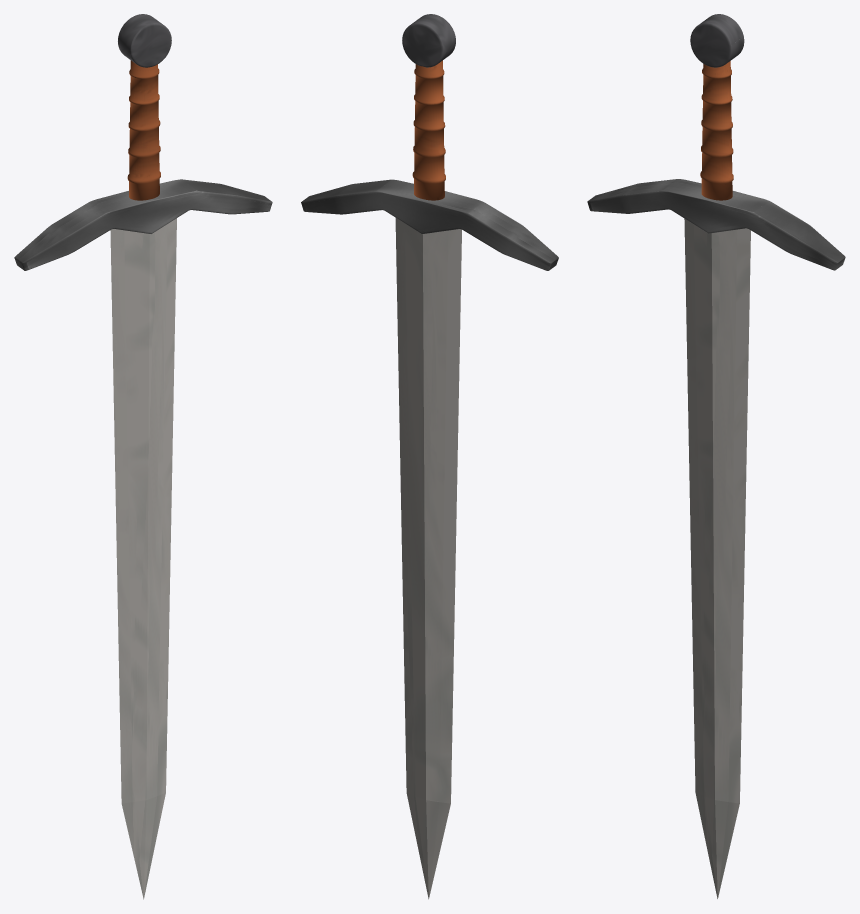
The model's file is Sword1.fbx.
The picture shows the model from 3 angles, left to right: view 1: azimuth 30°, elevation 25°; view 2: azimuth 150°, elevation 25°; view 3: azimuth 330°, elevation 25°; orthographic projection.
Parts seen in each view (by area): view 1: Cube.002, Cube.001, Cylinder.002, Cylinder.003; view 2: Cube.002, Cube.001, Cylinder.002, Cylinder.003; view 3: Cube.002, Cube.001, Cylinder.002, Cylinder.003.
Part boxes in pixels (x1,y1,x2,y2): Cube.002: (110, 218, 176, 899); Cube.001: (14, 179, 272, 270); Cylinder.002: (127, 60, 160, 200); Cylinder.003: (118, 14, 171, 67); Cube.002: (395, 218, 461, 899); Cube.001: (301, 179, 558, 270); Cylinder.002: (412, 60, 445, 200); Cylinder.003: (402, 14, 455, 67); Cube.002: (684, 218, 750, 898); Cube.001: (587, 179, 845, 270); Cylinder.002: (700, 61, 733, 200); Cylinder.003: (690, 14, 744, 67).
Bounding box in the file's own units: 82.45 × 277 × 9.46.
